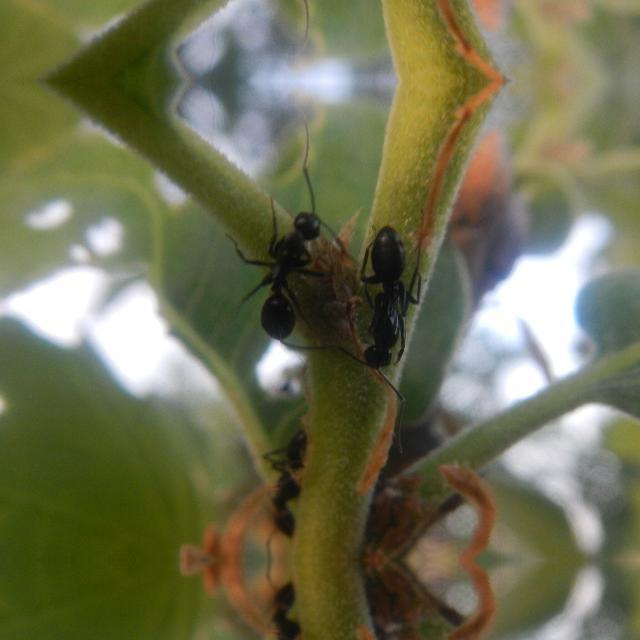Camponotus: (221, 182, 349, 354), (336, 208, 446, 378), (244, 422, 330, 538), (244, 580, 328, 640)
